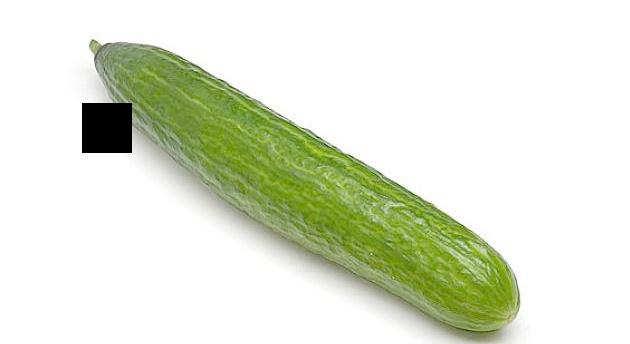cucumber: (86, 35, 518, 329)
